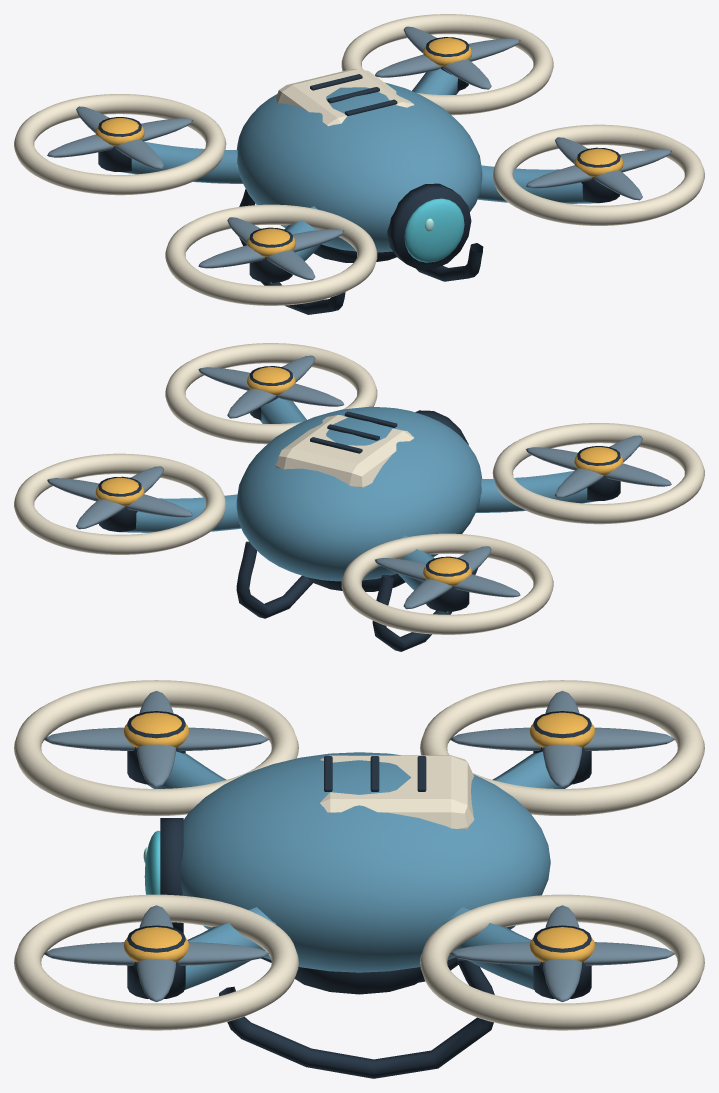
File: quadcopter.glb
3 views of the same model, one above another, from view 1: azimuth 30°, elevation 25°; view 2: azimuth 150°, elevation 25°; view 3: azimuth 270°, elevation 25° (orthographic). The views are drawn at different scales.
Parts seen in each view (by area): view 1: BodyMesh, Rotor0Mesh, Rotor3Mesh, Rotor2Mesh, Rotor1Mesh; view 2: BodyMesh, Rotor1Mesh, Rotor2Mesh, Rotor0Mesh, Rotor3Mesh; view 3: BodyMesh, Rotor1Mesh, Rotor3Mesh, Rotor0Mesh, Rotor2Mesh.
Boxes of the visible parts, bbox=[...] form: BodyMesh: bbox=[14, 14, 704, 314]; Rotor0Mesh: bbox=[47, 106, 192, 169]; Rotor3Mesh: bbox=[526, 137, 671, 200]; Rotor2Mesh: bbox=[198, 217, 343, 280]; Rotor1Mesh: bbox=[375, 26, 520, 89]; BodyMesh: bbox=[14, 343, 704, 651]; Rotor1Mesh: bbox=[47, 466, 192, 529]; Rotor2Mesh: bbox=[526, 435, 671, 498]; Rotor0Mesh: bbox=[375, 546, 520, 609]; Rotor3Mesh: bbox=[198, 355, 344, 418]; BodyMesh: bbox=[14, 680, 704, 1078]; Rotor1Mesh: bbox=[449, 905, 675, 1001]; Rotor3Mesh: bbox=[43, 905, 269, 1001]; Rotor0Mesh: bbox=[449, 691, 675, 787]; Rotor2Mesh: bbox=[43, 691, 269, 787].
Size of the model in its own units: 2.03 by 0.736 by 1.77.
